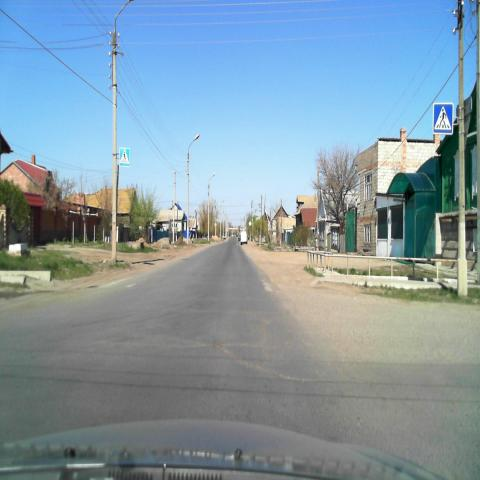5_19_1: (433, 102, 453, 134), (119, 148, 130, 167)
